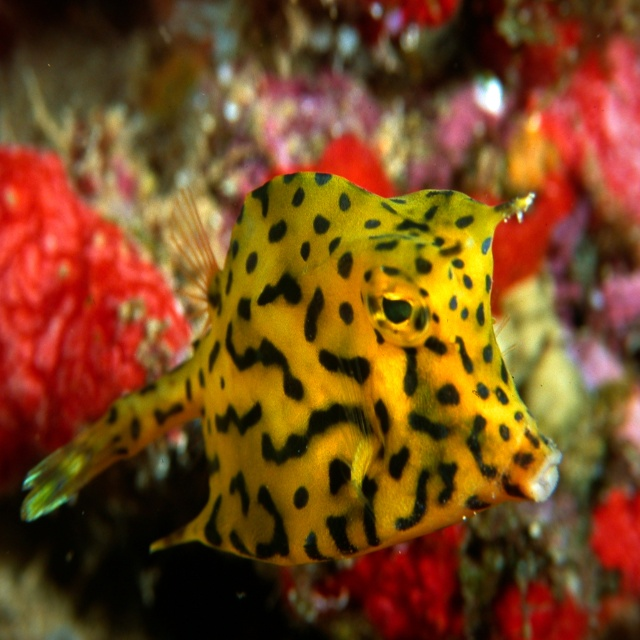Fish: (26, 174, 566, 567)
